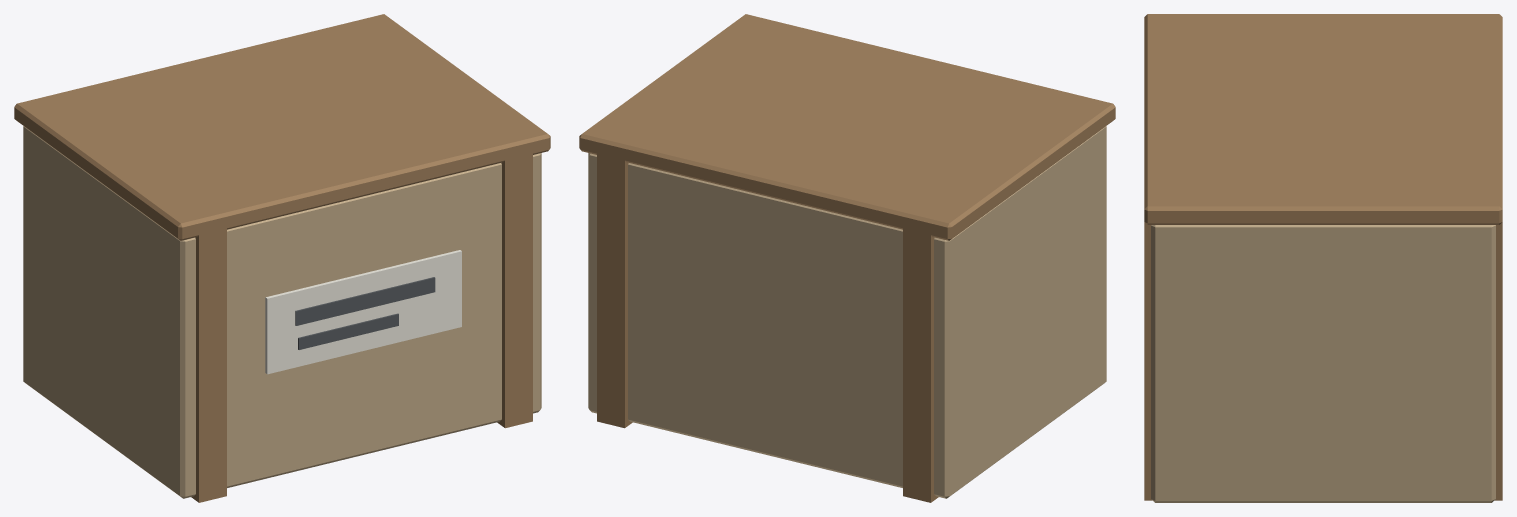
The model's file is an_crate.glb.
The picture shows the model from 3 angles, left to right: view 1: azimuth 30°, elevation 25°; view 2: azimuth 150°, elevation 25°; view 3: azimuth 270°, elevation 25°; orthographic projection. The views are drawn at different scales.
Parts seen in each view (by area): view 1: an_crate, lid; view 2: an_crate, lid; view 3: an_crate, lid.
Part boxes in pixels (bbox=[...]): an_crate: bbox=[23, 126, 541, 502]; lid: bbox=[14, 14, 550, 240]; an_crate: bbox=[588, 126, 1106, 502]; lid: bbox=[579, 14, 1115, 240]; an_crate: bbox=[1144, 222, 1502, 502]; lid: bbox=[1144, 14, 1502, 224].
Bounding box in the file's own units: 1.34 × 0.97 × 1.04.
